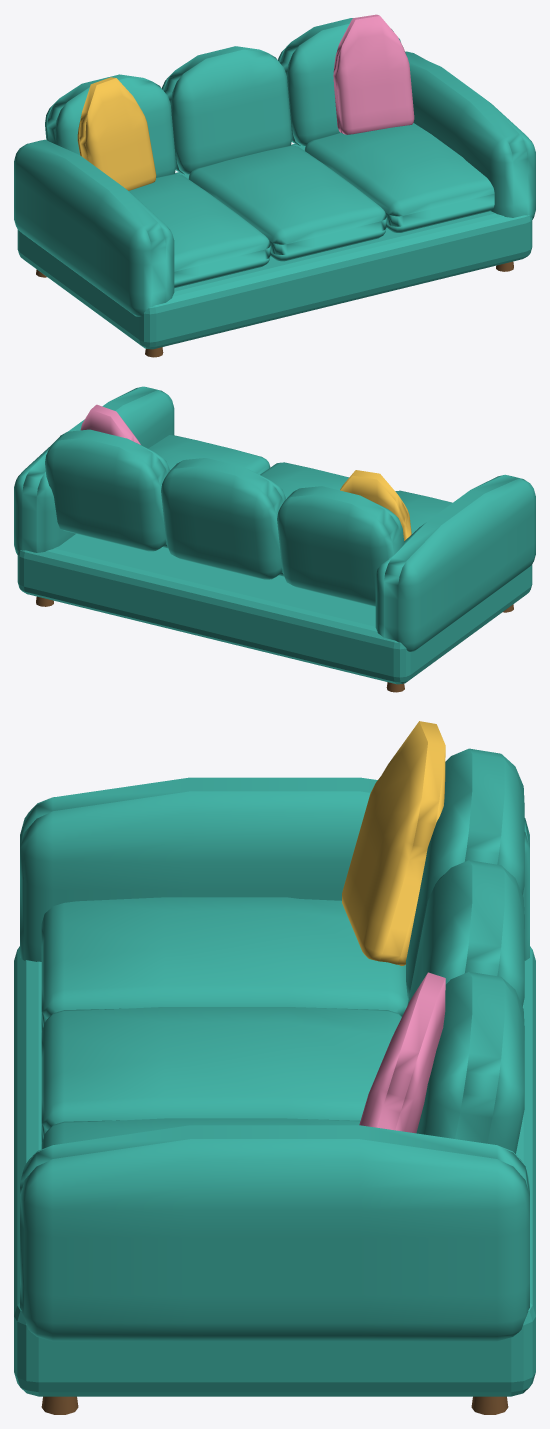
Rendered from sofa.glb.
3 renders of one model, top to bottom at view 1: azimuth 30°, elevation 25°; view 2: azimuth 150°, elevation 25°; view 3: azimuth 270°, elevation 25°, orthographic. The views are drawn at different scales.
Parts seen in each view (by area): view 1: sofa; view 2: sofa; view 3: sofa.
Boxes of the visible parts, <box> form: sofa: <box>14,14,535,357</box>; sofa: <box>14,386,535,692</box>; sofa: <box>14,721,535,1414</box>.
Bounding box in the file's own units: 3 × 1.37 × 1.7.
